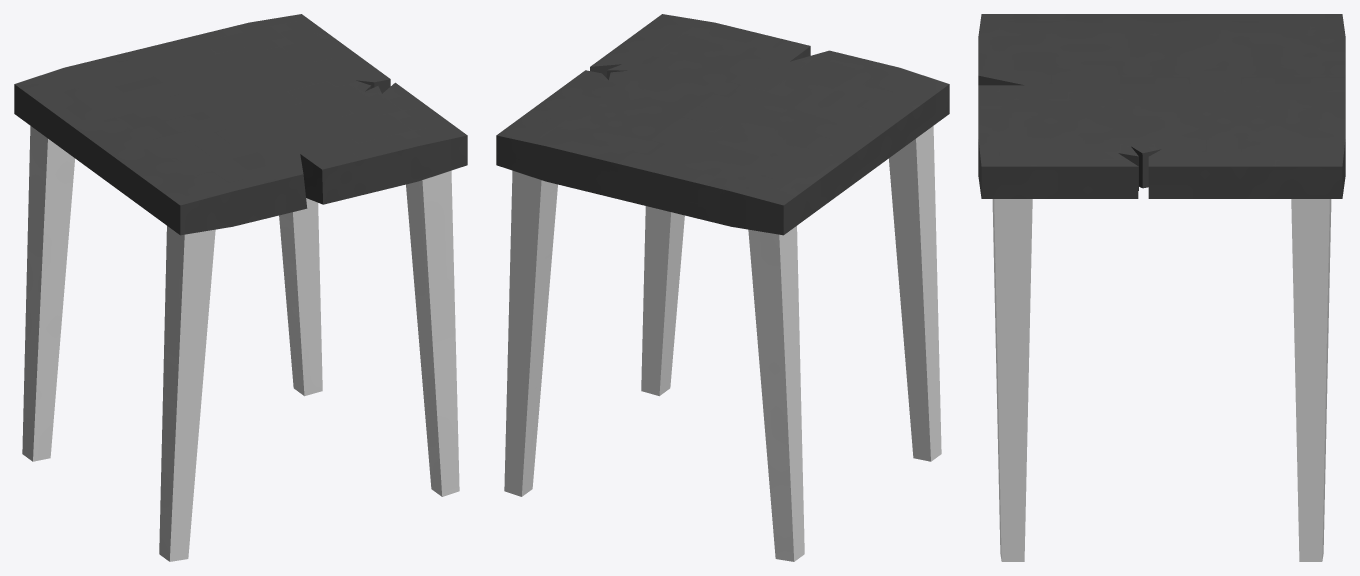
File: Chair_01_05_Damaged.fbx
3 views of the same model, side by side, from view 1: azimuth 30°, elevation 25°; view 2: azimuth 150°, elevation 25°; view 3: azimuth 270°, elevation 25° (orthographic). The views are drawn at different scales.
Visible parts, largest first — view 1: Chair_01_05_Damaged; view 2: Chair_01_05_Damaged; view 3: Chair_01_05_Damaged.
Boxes of the visible parts, x1,y1,x2,y2 form: Chair_01_05_Damaged: (14,14,467,561); Chair_01_05_Damaged: (496,14,949,561); Chair_01_05_Damaged: (978,14,1345,561).
Bounding box in the file's own units: 0.4836 × 0.5845 × 0.4882.
